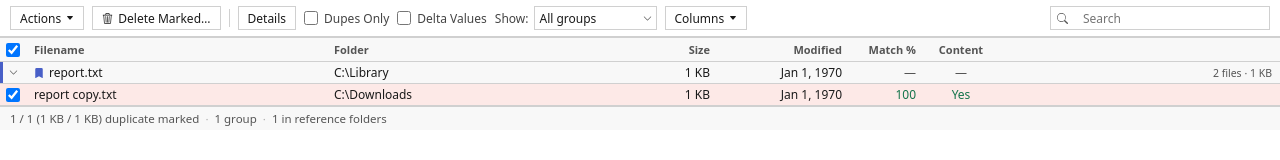
Test: DuplicatesResults review workflow › leads each group with its reference row and can hide references
Expected: the number of rows with class "dg-row-leader" is 1, [0,62,1279,84]
Expected: the text "report.txt" is shown, [34,64,103,81]
What coordinates should you click on to do the following:
click the checkbox labelled "Dupes Only"
I would click on:
 (311, 18)
Its box is [304,11,318,25].
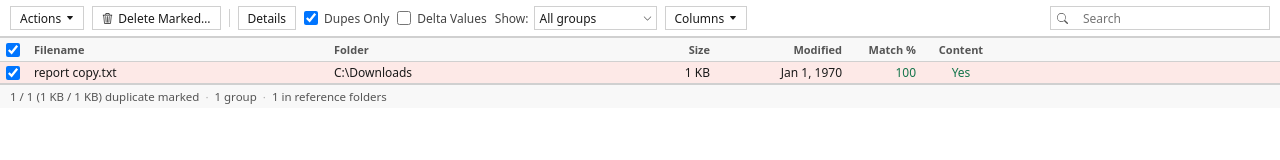
Expected: the text "report copy.txt" is shown, [34,64,117,81]
Expected: no rows with class "dg-row-leader" are shown
Expected: the text "report.txt" is gone
